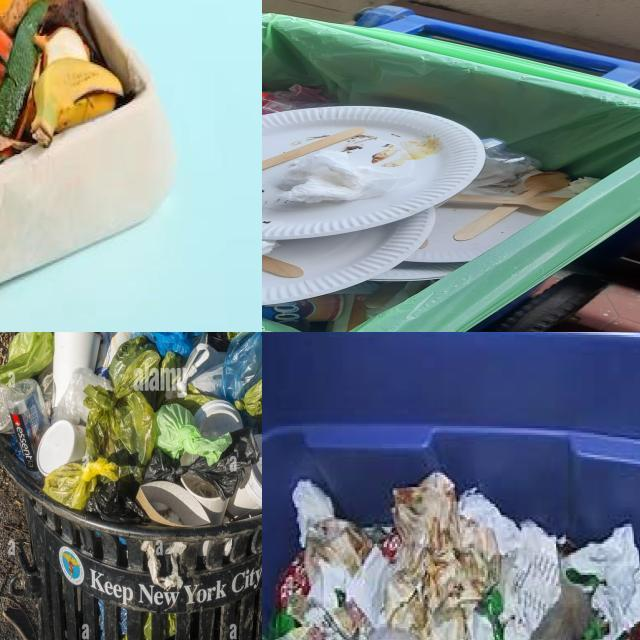Disposable: (262, 106, 485, 239), (262, 209, 436, 304), (406, 202, 550, 263), (52, 332, 101, 407), (228, 434, 262, 517), (36, 421, 86, 476), (95, 332, 134, 379), (194, 399, 242, 437), (0, 383, 12, 432)
Garbage: (262, 86, 598, 332), (262, 472, 640, 640), (0, 332, 262, 526)
Plastic_Bag: (85, 429, 260, 523), (85, 335, 160, 467), (155, 404, 231, 465), (44, 457, 119, 510), (51, 368, 112, 426), (221, 332, 262, 417), (0, 332, 54, 386)
Plastic_bottle: (8, 380, 50, 471), (471, 138, 542, 187), (262, 92, 339, 114)
